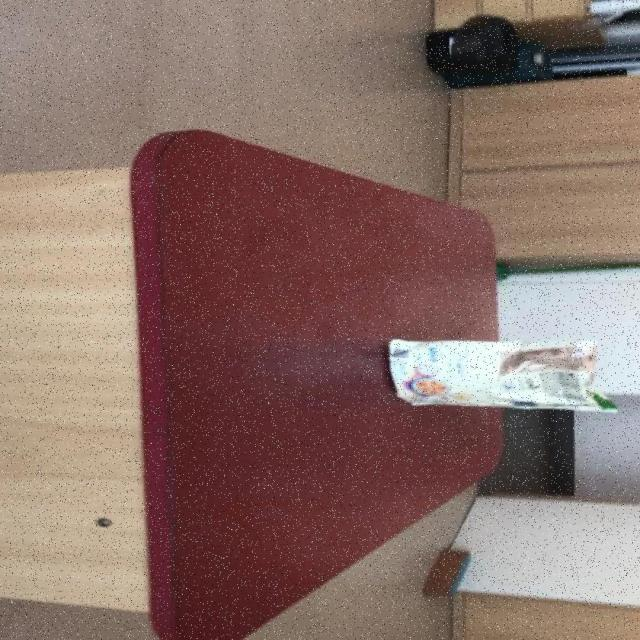CornFlakes: (386, 337, 617, 413)
